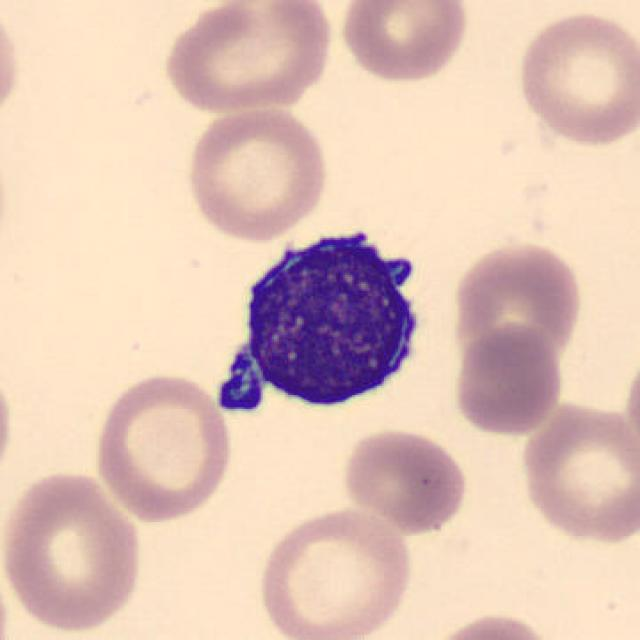Lymphocyte: (201, 211, 439, 425)
RBC: (0, 466, 148, 636), (89, 367, 236, 525), (254, 502, 416, 640), (182, 102, 332, 244), (156, 0, 337, 116), (448, 236, 585, 376), (516, 396, 638, 546), (512, 7, 638, 150), (338, 425, 471, 536), (448, 324, 565, 439), (336, 0, 473, 85), (423, 610, 562, 640), (0, 4, 25, 132), (620, 340, 640, 474), (0, 354, 18, 498)
